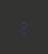two: (19, 20, 27, 34)
